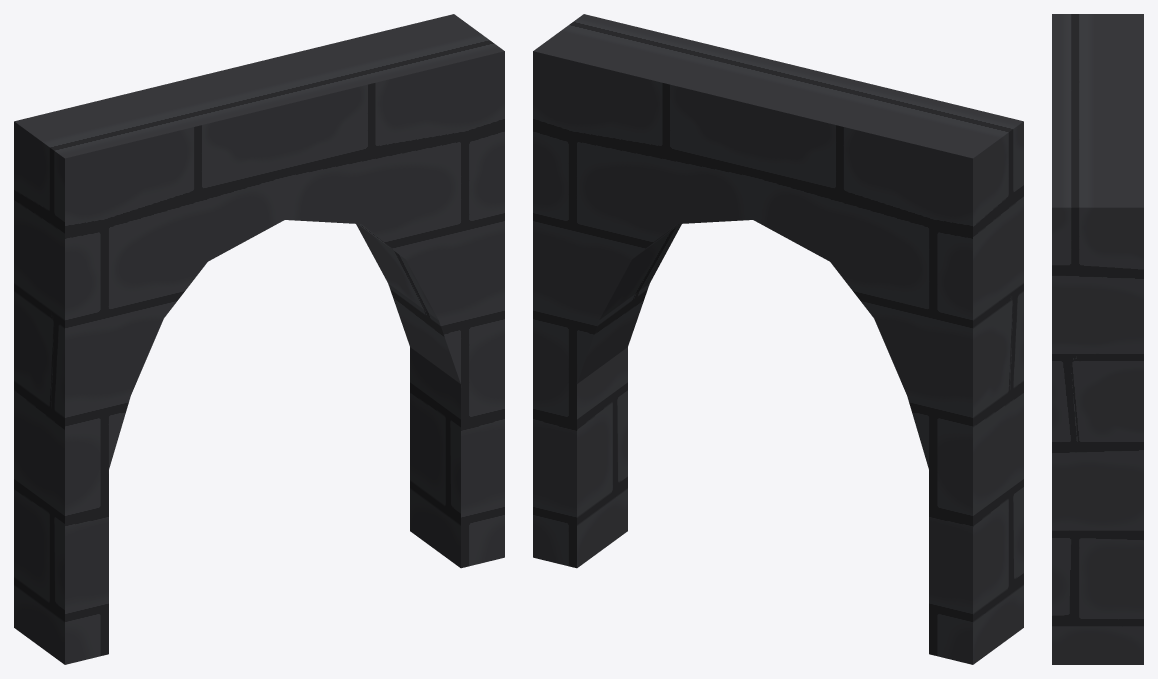
The model's file is gateHolder.fbx.
3 views of the same model, side by side, from view 1: azimuth 30°, elevation 25°; view 2: azimuth 150°, elevation 25°; view 3: azimuth 270°, elevation 25° (orthographic). The views are drawn at different scales.
Parts seen in each view (by area): view 1: Cube; view 2: Cube; view 3: Cube.
Part boxes in pixels (box(x1,y1,x2,y2)): Cube: box(14, 14, 504, 664); Cube: box(533, 14, 1023, 664); Cube: box(1052, 14, 1143, 664).
Size of the model in its own units: 1000 by 1100 by 200.
Materials: 1 (1 with a texture image).
